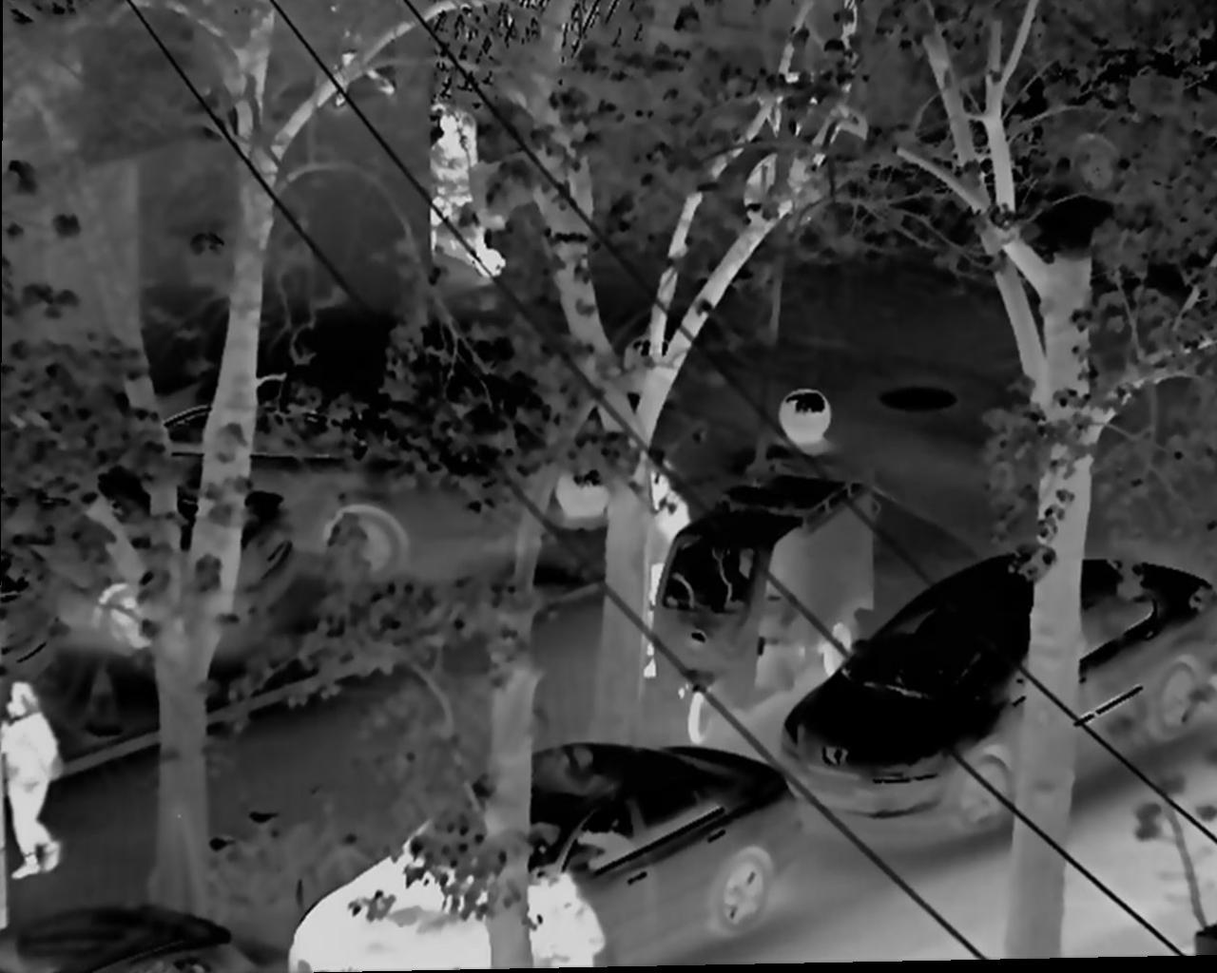person: (419, 98, 495, 282), (630, 434, 691, 637), (5, 673, 59, 878)
